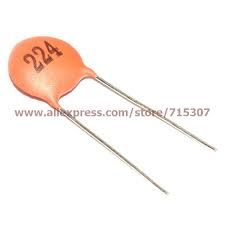ceramic capacitor: (3, 22, 130, 109)
